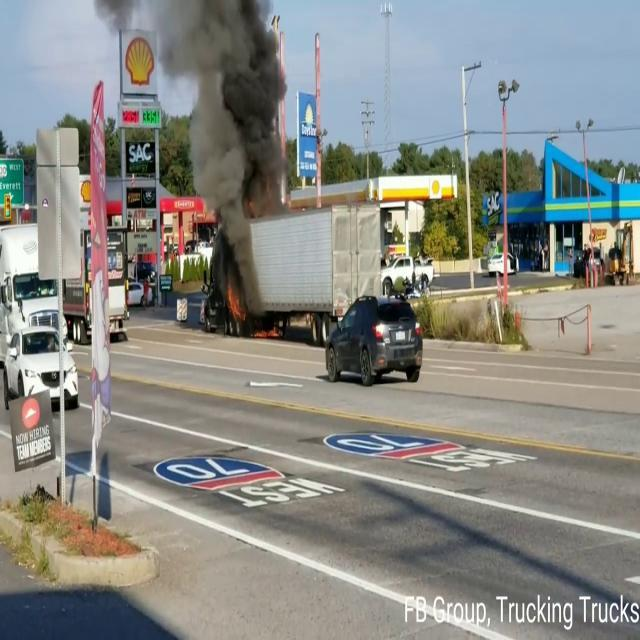Smoke: (170, 0, 298, 307)
